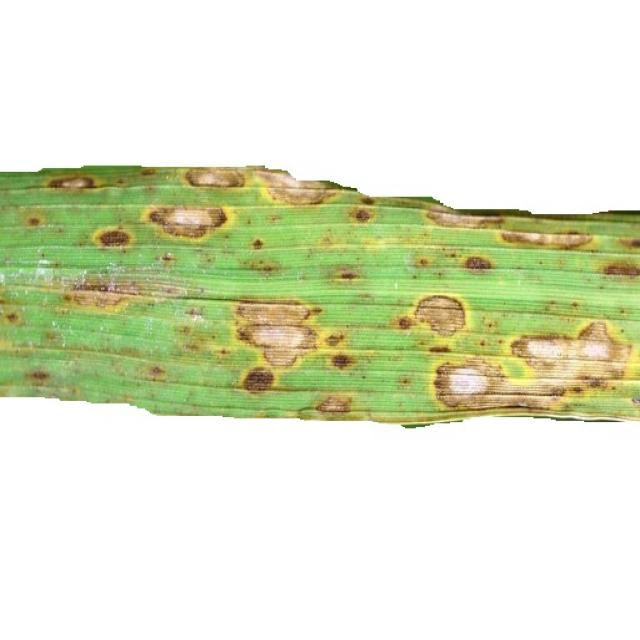Unhealthy: (431, 316, 638, 420), (222, 296, 379, 397), (389, 195, 601, 253), (33, 275, 186, 313), (389, 292, 475, 341), (252, 166, 348, 209), (303, 227, 432, 256), (142, 205, 232, 242), (175, 307, 235, 362), (428, 245, 495, 278), (319, 410, 447, 425), (182, 167, 248, 189), (41, 173, 111, 193), (90, 225, 136, 254), (345, 193, 380, 230), (598, 259, 640, 285), (0, 336, 39, 361), (313, 391, 356, 413), (544, 300, 580, 325), (239, 261, 288, 278), (0, 298, 27, 326), (332, 266, 368, 286), (23, 368, 52, 392), (21, 209, 48, 231), (153, 249, 179, 268), (613, 235, 640, 253), (147, 363, 169, 383), (425, 343, 461, 355), (138, 167, 162, 180), (412, 255, 435, 268), (43, 329, 62, 344), (250, 236, 265, 252), (265, 213, 285, 224), (397, 376, 411, 389), (619, 305, 628, 317), (416, 339, 429, 347), (114, 178, 125, 185), (206, 257, 213, 264), (247, 219, 252, 224), (225, 236, 229, 240)
